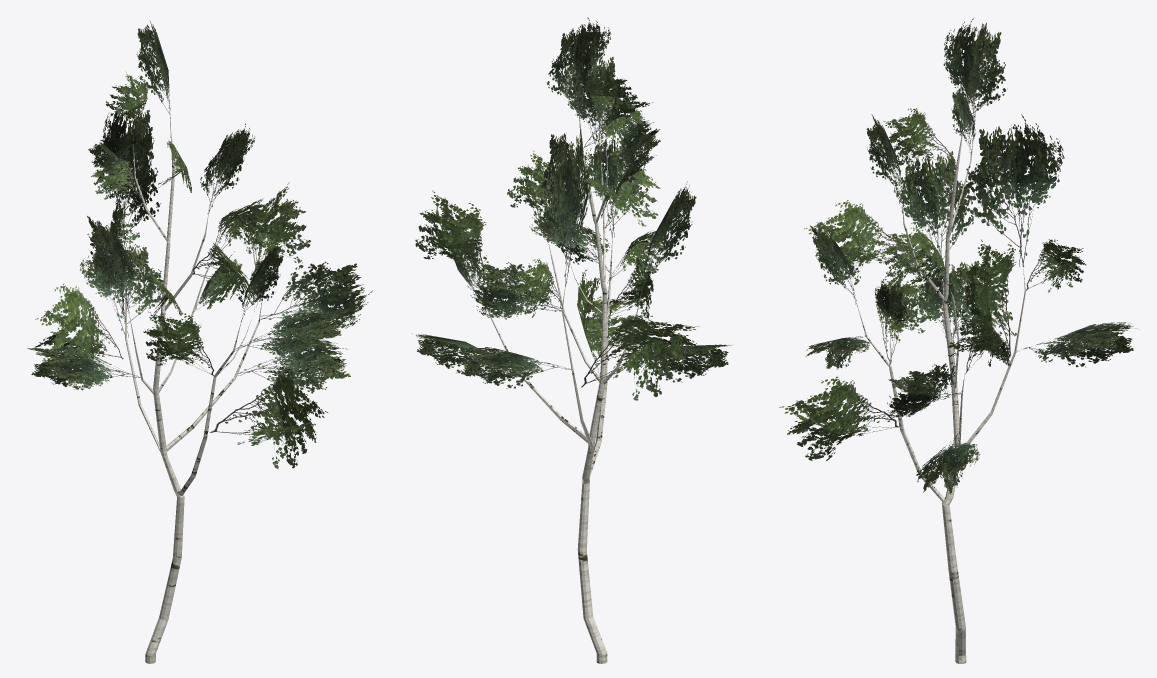
The model's file is pseudo-birch2.obj.
The picture shows the model from 3 angles, left to right: view 1: azimuth 30°, elevation 25°; view 2: azimuth 150°, elevation 25°; view 3: azimuth 270°, elevation 25°; orthographic projection. The views are drawn at different scales.
Visible parts, largest first — view 1: Circle.001, Plane.018_Plane, Plane.019_Plane.001, Plane.010_Plane.001, Plane, Plane.013_Plane.001, Plane.014_Plane.001, Plane.002_Plane.001, Plane.001, Plane.009_Plane, Plane.015_Plane, Plane.011_Plane.001 (+10 smaller); view 2: Circle.001, Plane, Plane.010_Plane.001, Plane.009_Plane, Plane.005_Plane.001, Plane.016_Plane.001, Plane.014_Plane.001, Plane.003_Plane.001, Plane.011_Plane.001, Plane.008_Plane.001, Plane.018_Plane, Plane.012_Plane (+11 smaller); view 3: Plane.010_Plane.001, Circle.001, Plane.011_Plane.001, Plane.018_Plane, Plane.005_Plane.001, Plane.012_Plane, Plane, Plane.014_Plane.001, Plane.001, Plane.019_Plane.001, Plane.020_Plane, Plane.013_Plane.001 (+11 smaller).
Part boxes in pixels (x1,y1,x2,y2): Circle.001: (125,122,262,663); Plane.018_Plane: (210,369,327,468); Plane.019_Plane.001: (260,261,372,328); Plane.010_Plane.001: (103,107,161,250); Plane: (34,283,123,379); Plane.013_Plane.001: (238,338,350,396); Plane.014_Plane.001: (79,245,170,337); Plane.002_Plane.001: (234,308,342,357); Plane.001: (27,344,140,390); Plane.009_Plane: (248,182,310,294); Plane.015_Plane: (143,311,213,375); Plane.011_Plane.001: (87,216,137,313); Circle.001: (487,111,642,663); Plane: (581,314,699,400); Plane.010_Plane.001: (538,129,590,286); Plane.009_Plane: (415,190,486,285); Plane.005_Plane.001: (547,17,611,117); Plane.016_Plane.001: (467,262,563,319); Plane.014_Plane.001: (451,347,571,388); Plane.003_Plane.001: (584,136,648,237); Plane.011_Plane.001: (641,181,696,292); Plane.008_Plane.001: (563,57,633,160); Plane.018_Plane: (577,269,643,377); Plane.012_Plane: (605,150,660,228); Plane.010_Plane.001: (960,114,1064,266); Circle.001: (857,125,1025,663); Plane.011_Plane.001: (893,149,979,271); Plane.018_Plane: (779,376,899,460); Plane.005_Plane.001: (943,18,1007,131); Plane.012_Plane: (804,200,916,285); Plane: (956,239,1016,365); Plane.014_Plane.001: (1016,322,1137,367); Plane.001: (912,260,999,355); Plane.019_Plane.001: (885,360,961,417); Plane.020_Plane: (883,108,955,170); Plane.013_Plane.001: (916,431,980,494).
Bounding box in the file's own units: 87.23 × 164 × 84.48.
